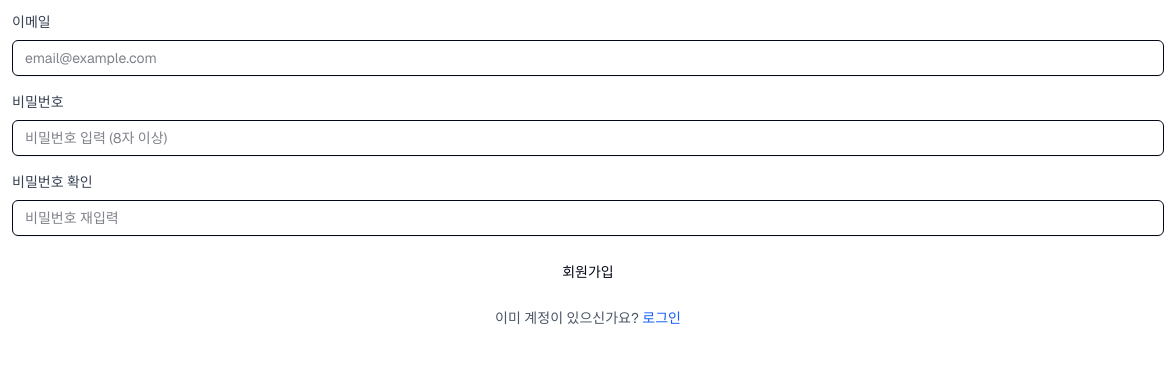
Scenario: SignupForm › SPEC-AUTH-002 TAG-6: PasswordStrengthIndicator 통합 › 비밀번호 입력 시 PasswordStrengthIndicator를 렌더링한다
Type "weak" into the password field labelled "비밀번호" at (588, 138), box [12,120,1164,156]
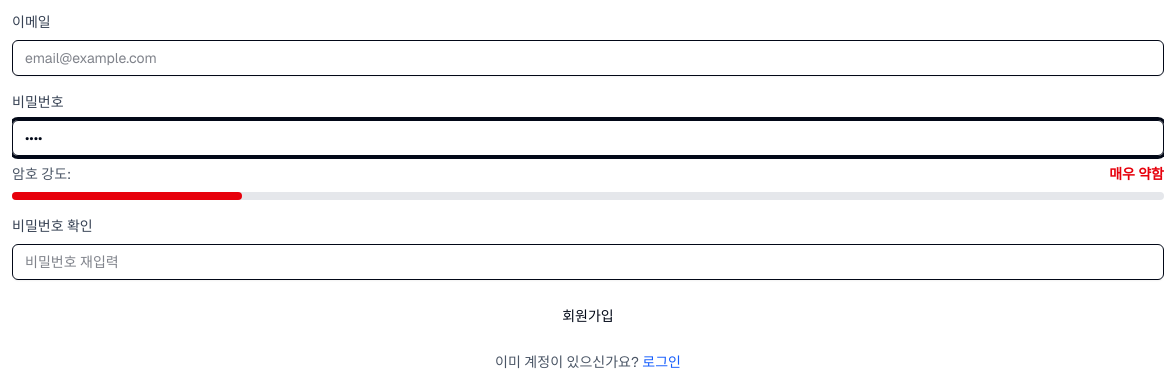
Expected: the text "암호 강도:" is shown, [12,164,71,184]
